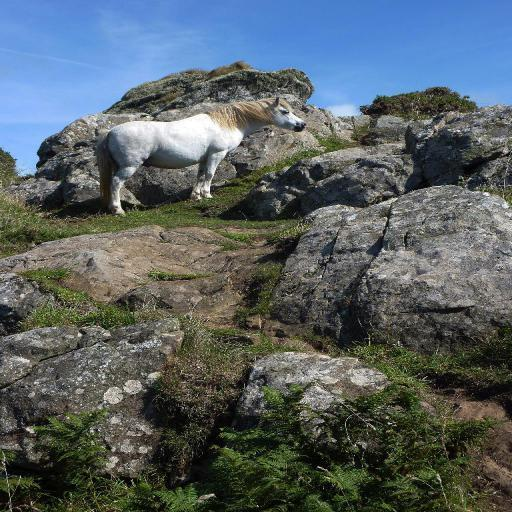horse: (94, 96, 308, 215)
